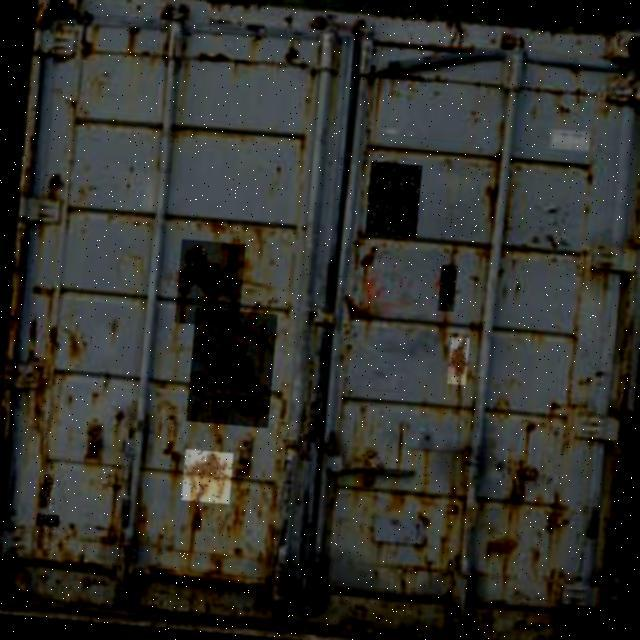Rust: (186, 308, 278, 429), (172, 239, 245, 328), (365, 161, 422, 237), (181, 449, 233, 504), (447, 337, 469, 385), (438, 265, 458, 312), (38, 472, 55, 509), (36, 513, 59, 527)
